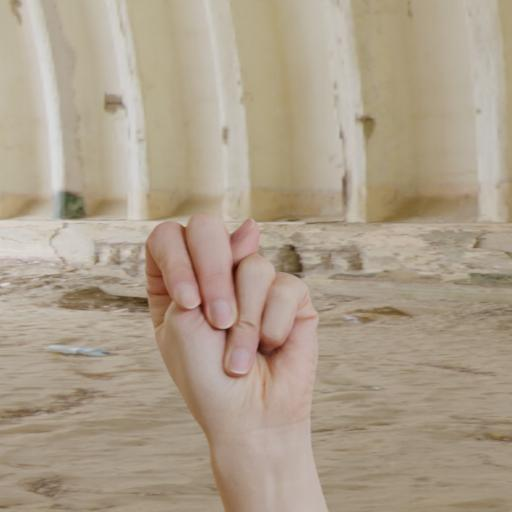N: (133, 200, 326, 434)
